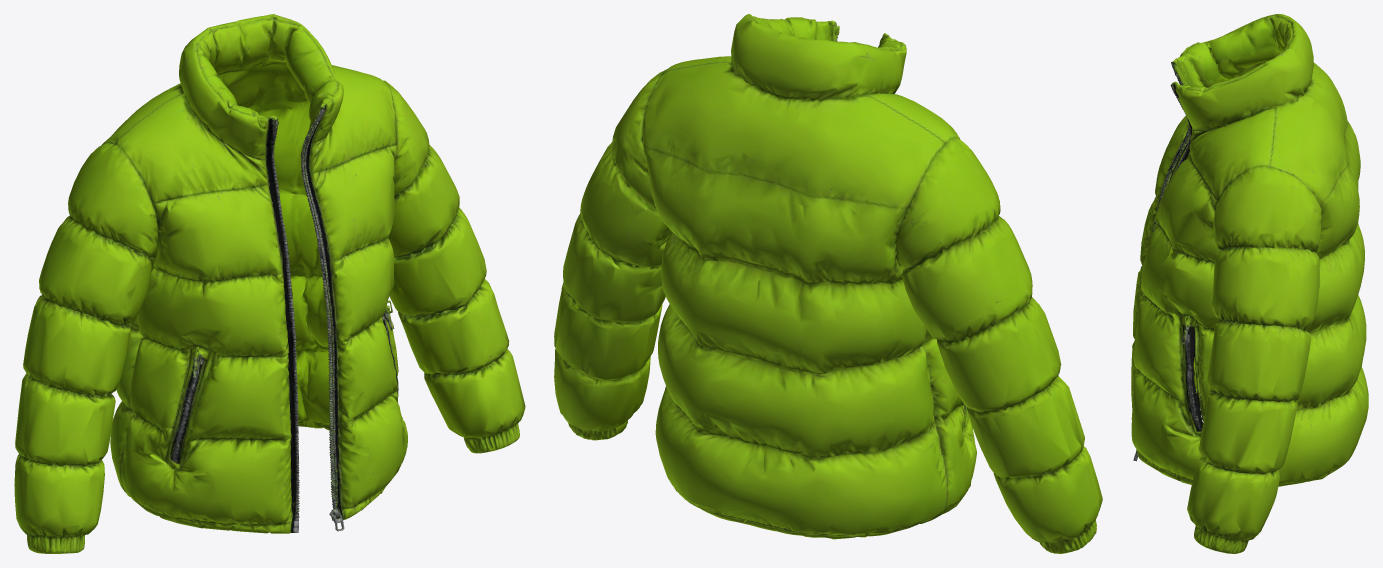
The model's file is green.glb.
The picture shows the model from 3 angles, left to right: view 1: azimuth 30°, elevation 25°; view 2: azimuth 150°, elevation 25°; view 3: azimuth 270°, elevation 25°; orthographic projection. The views are drawn at different scales.
Parts seen in each view (by area): view 1: mesh_node; view 2: mesh_node; view 3: mesh_node.
Part boxes in pixels (x1,y1,x2,y2): mesh_node: (14,14,525,553); mesh_node: (554,14,1102,553); mesh_node: (1131,14,1368,553).
Size of the model in its own units: 1.9 by 1.66 by 0.8516.
Materials: 1 (1 with a texture image).
